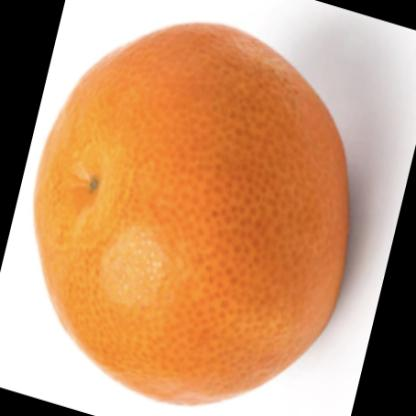fresh: (36, 23, 351, 403)
